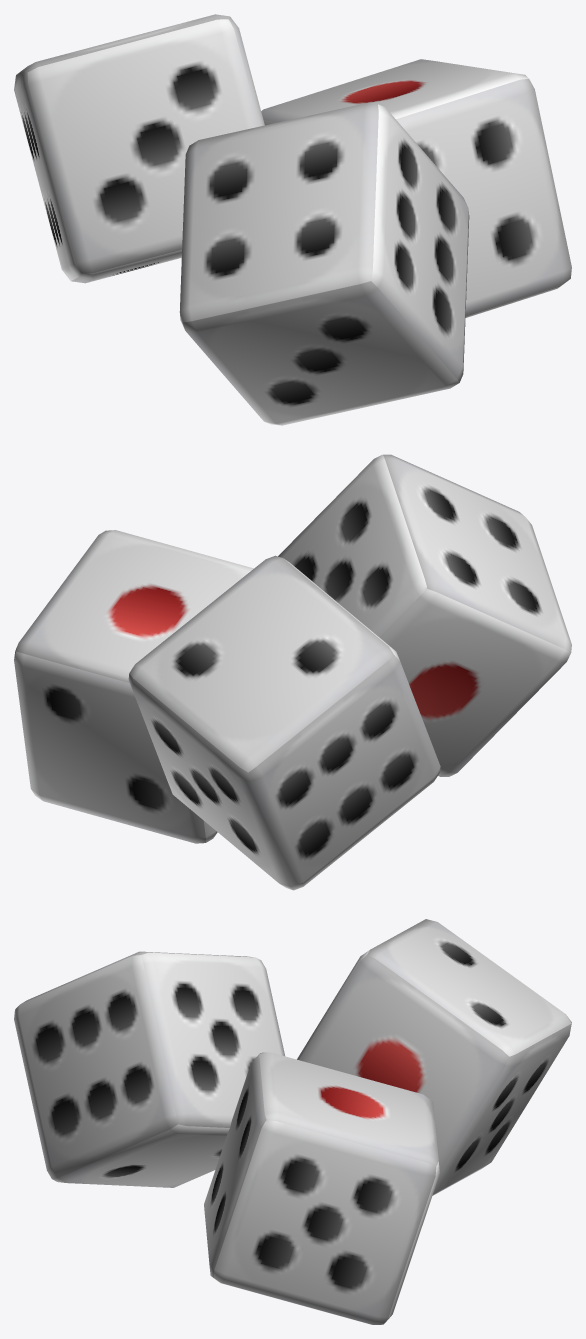
The model's file is Dados_Mano.obj.
3 renders of one model, top to bottom at view 1: azimuth 30°, elevation 25°; view 2: azimuth 150°, elevation 25°; view 3: azimuth 270°, elevation 25°, orthographic. The views are drawn at different scales.
Visible parts, largest first — view 1: Dado; view 2: Dado; view 3: Dado.
Boxes of the visible parts, bbox=[...] form: Dado: bbox=[14, 14, 571, 425]; Dado: bbox=[14, 454, 571, 890]; Dado: bbox=[14, 919, 571, 1324].
Size of the model in its own units: 0.0489 by 0.0353 by 0.0628.
1 material, 1 textured.
